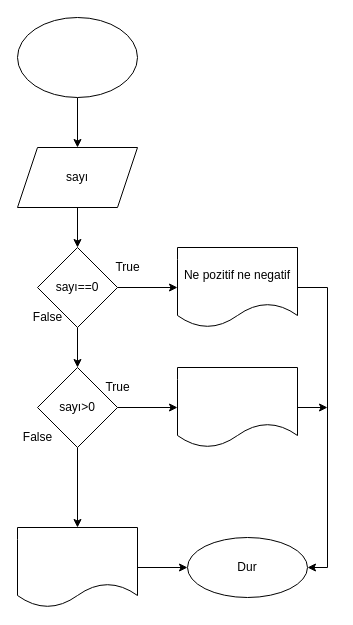
The diagram is 353 pixels wide and 625 high, and some of its shapes have lost their labels. Each missing label, with the centre of its shape:
Başla: the point at 77,57
Negatif: the point at 77,567
Pozitif: the point at 237,407
